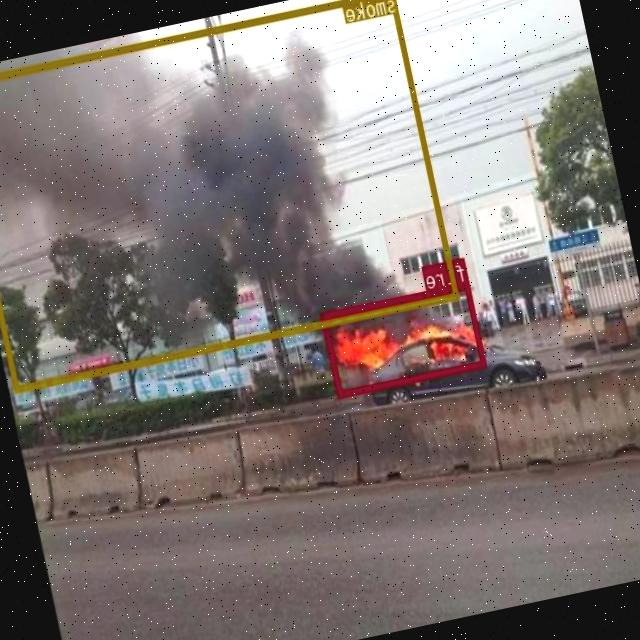fire: (321, 280, 487, 396)
smoke: (0, 0, 460, 391)
